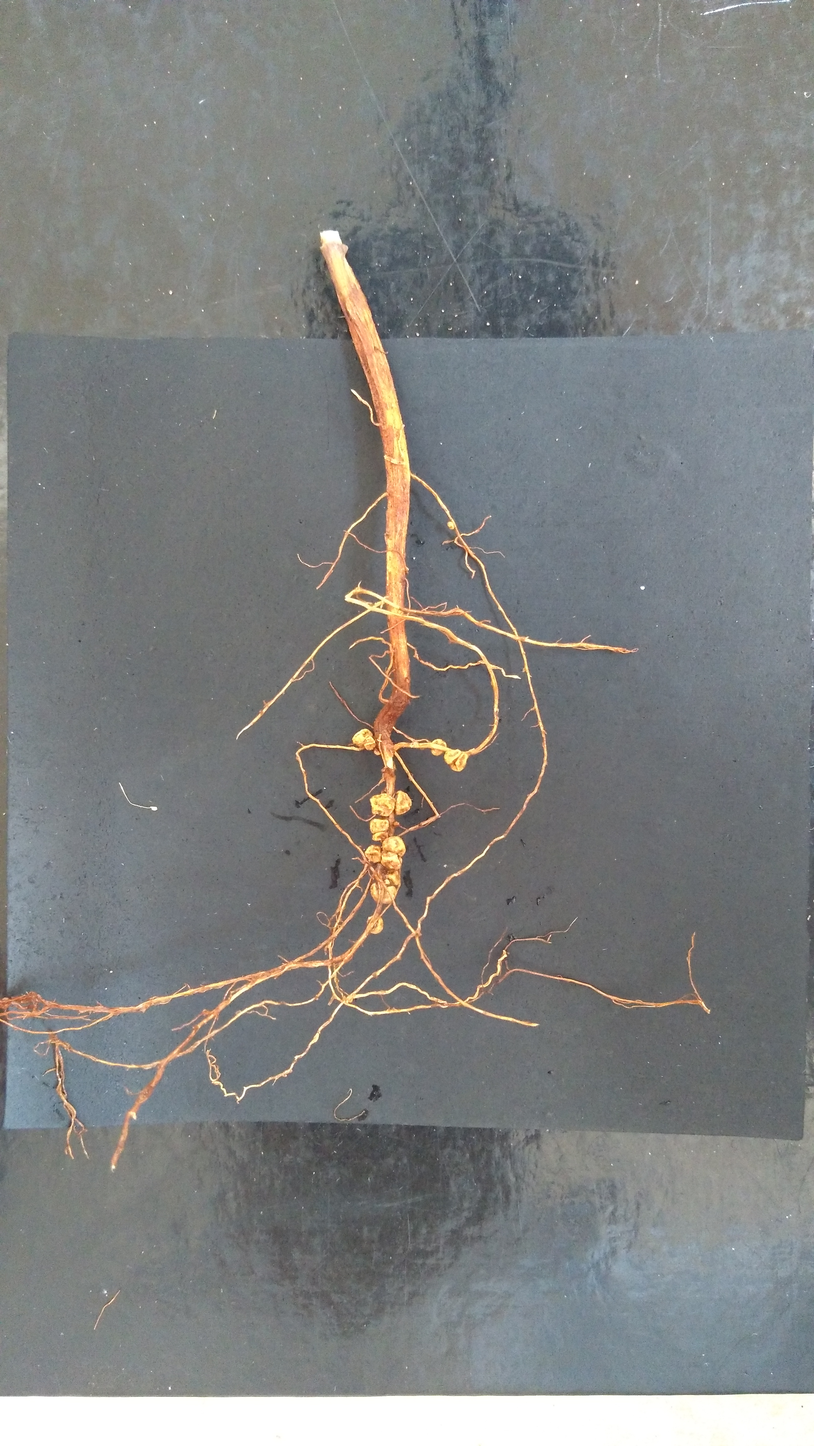nodule: (368, 792, 397, 817), (369, 882, 398, 905), (443, 748, 469, 773), (381, 835, 407, 857), (394, 788, 413, 816), (380, 850, 404, 871), (351, 728, 374, 746), (366, 914, 385, 935), (364, 844, 383, 864), (367, 817, 390, 833), (429, 737, 447, 757), (385, 870, 402, 886), (364, 736, 376, 750), (370, 834, 390, 841), (446, 521, 455, 531), (373, 749, 381, 756)
